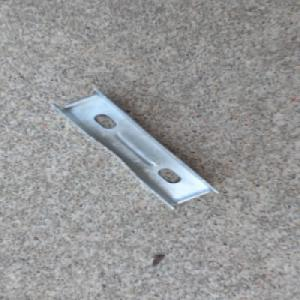ClampPart: (48, 86, 220, 210)
